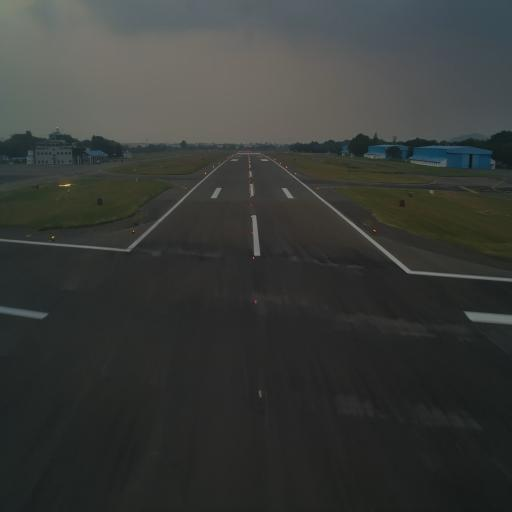on: (256, 388, 264, 400), (253, 296, 258, 306), (250, 254, 256, 262), (51, 232, 56, 240), (372, 227, 376, 237), (132, 227, 136, 236), (250, 228, 254, 236)
